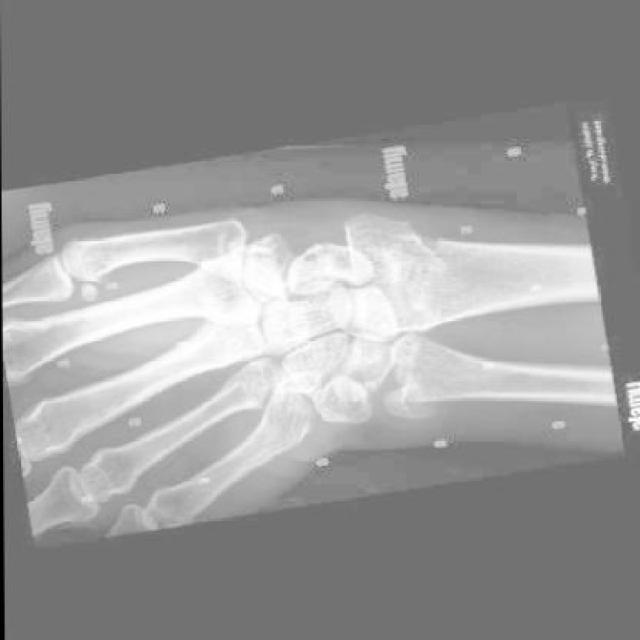Fracture: (392, 205, 461, 304)
